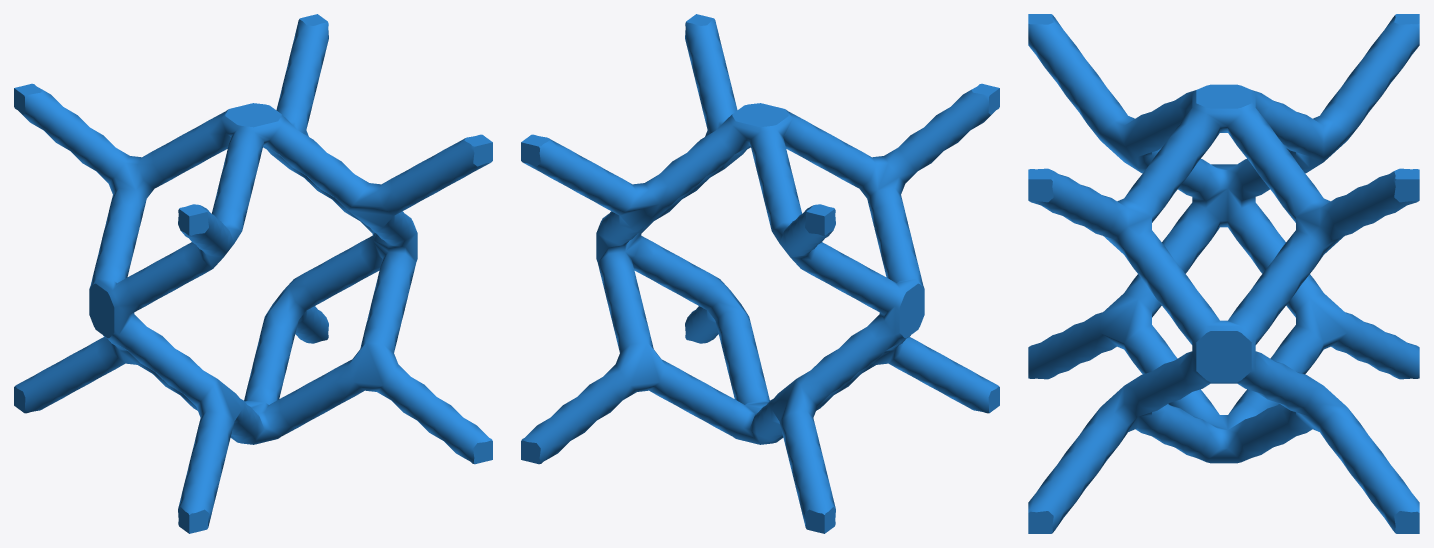
Rendered from Variation1.glb.
3 renders of one model, left to right at view 1: azimuth 30°, elevation 25°; view 2: azimuth 150°, elevation 25°; view 3: azimuth 270°, elevation 25°, orthographic. The views are drawn at different scales.
Parts seen in each view (by area): view 1: Mesh_0.014; view 2: Mesh_0.014; view 3: Mesh_0.014.
Part boxes in pixels (left/top/right/bottom): Mesh_0.014: left=14, top=14, right=492, bottom=533; Mesh_0.014: left=521, top=14, right=999, bottom=533; Mesh_0.014: left=1028, top=14, right=1419, bottom=533.
Size of the model in its own units: 1 by 1 by 1.
